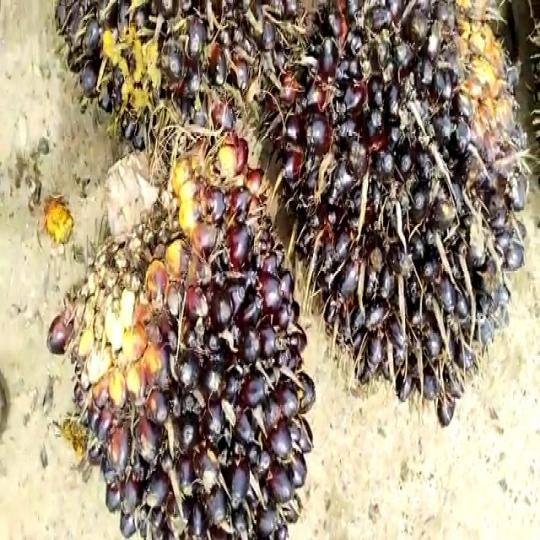mentah: (284, 0, 534, 431), (76, 159, 318, 540), (52, 1, 303, 179)
